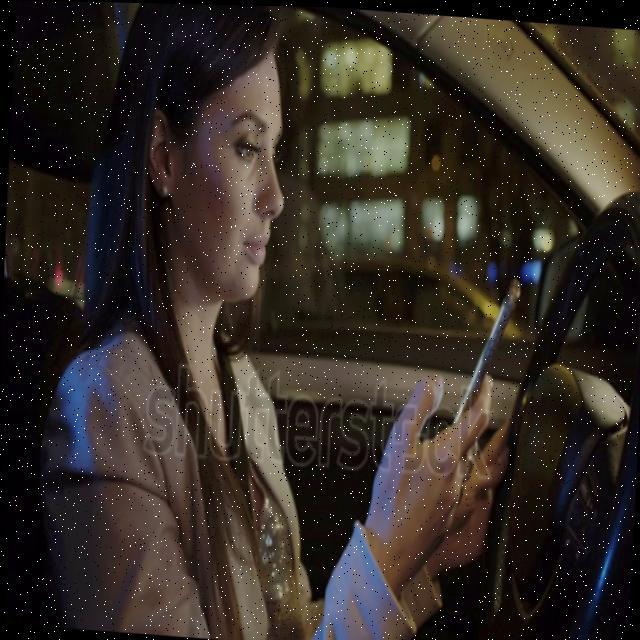PhoneCall: (450, 270, 522, 440)
